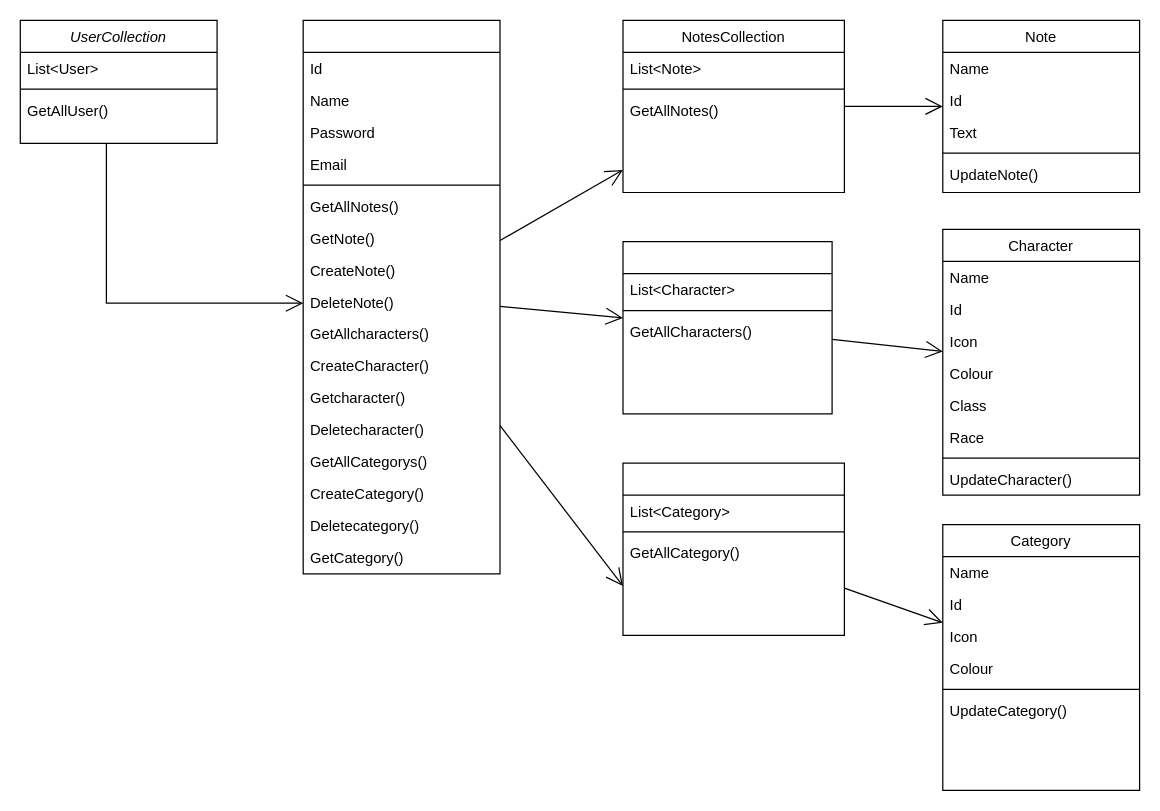
Image size: 1160x811. Some labels were removed from this diagram. Each missing label, with the box of its shape:
CategoryCollection: (622, 462, 844, 635)
CharacterCollection: (622, 240, 832, 414)
User: (302, 19, 500, 574)
